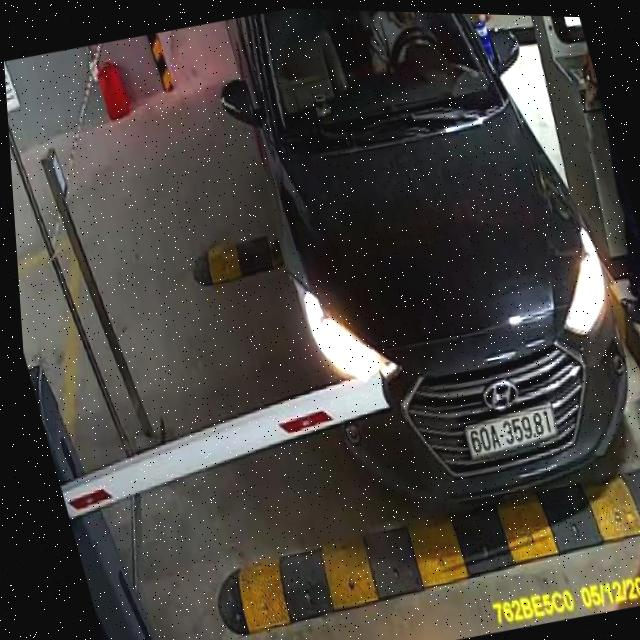car: (193, 6, 640, 551)
plate: (459, 396, 566, 467)
